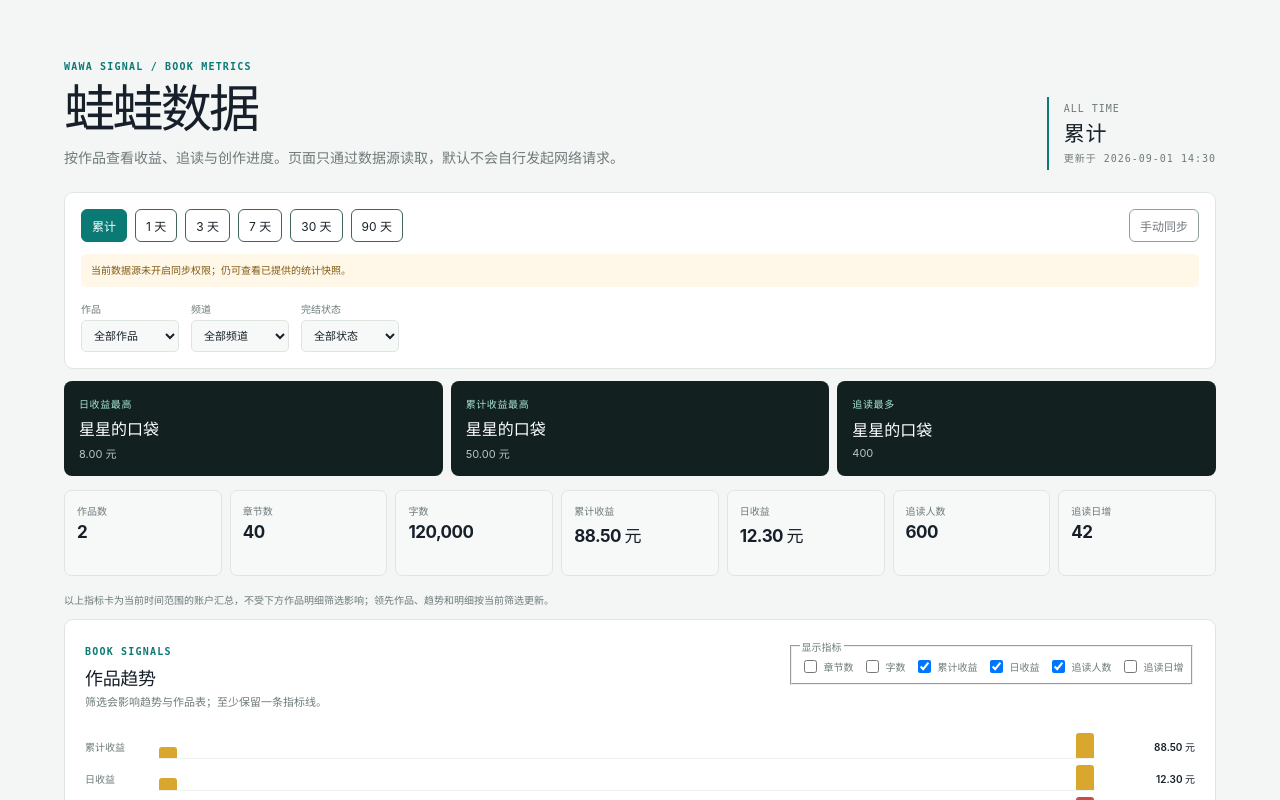
Test case: WawaStatsPage › ignores a slower response from an older range request
Click the button "1 天" at (156, 226), box left=135, top=209, right=177, bottom=242
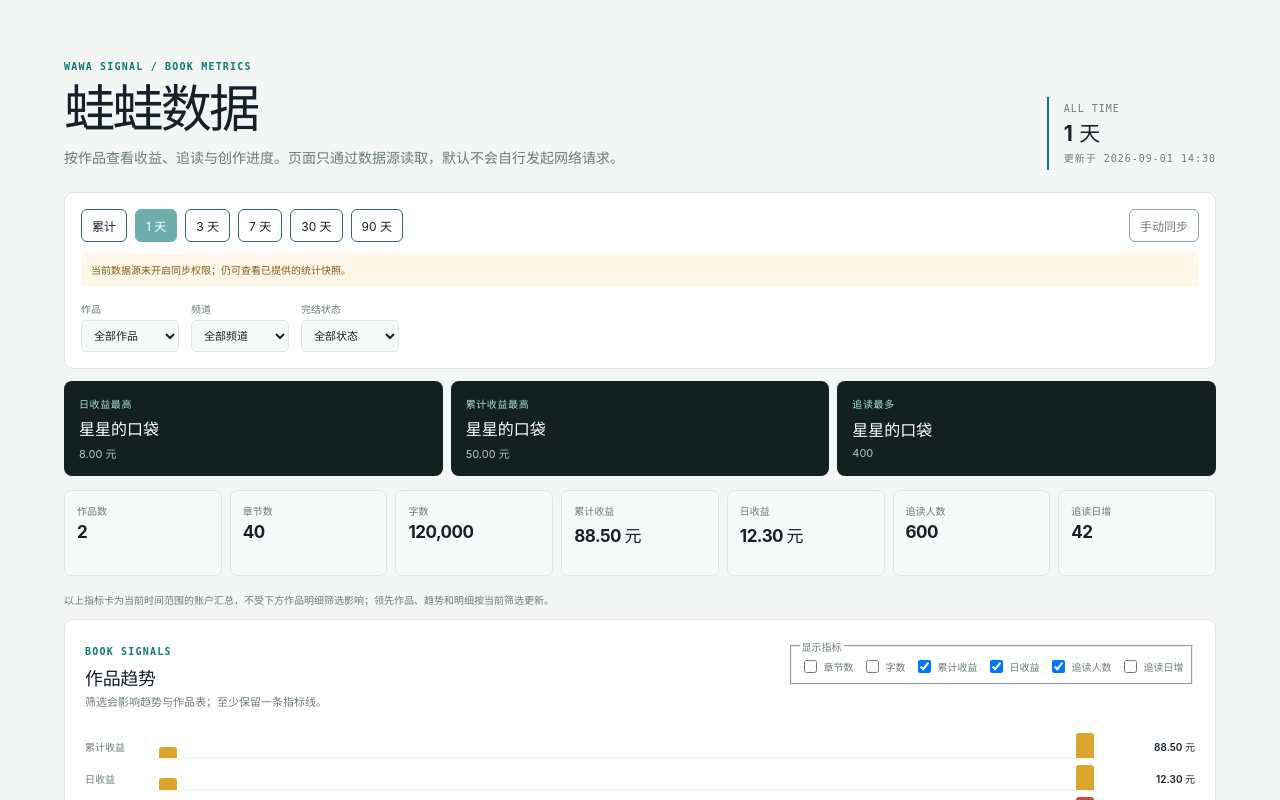
Click the button "90 天" at (377, 226), box left=351, top=209, right=403, bottom=242
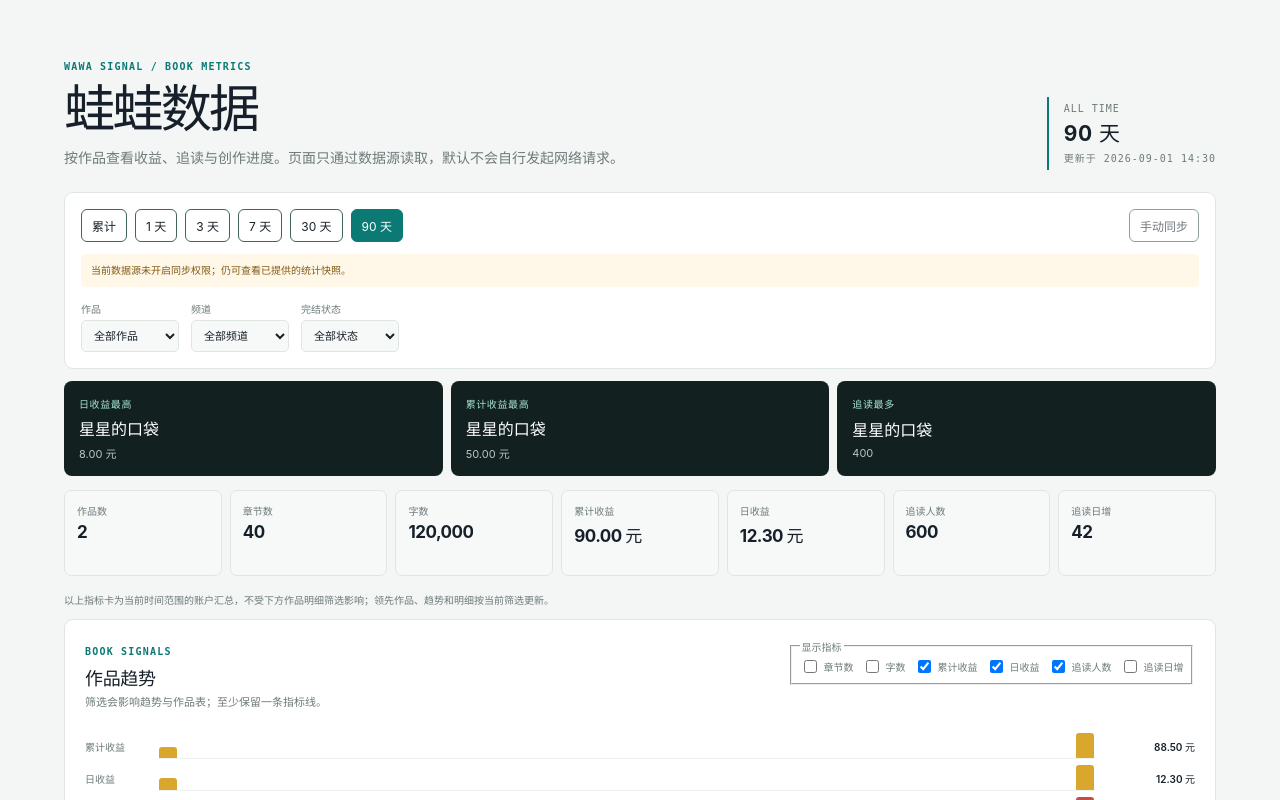
Now the text "90.00 元" is shown, box left=574, top=522, right=642, bottom=547
